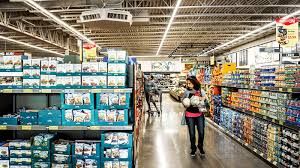Good: (143, 71, 211, 161)
